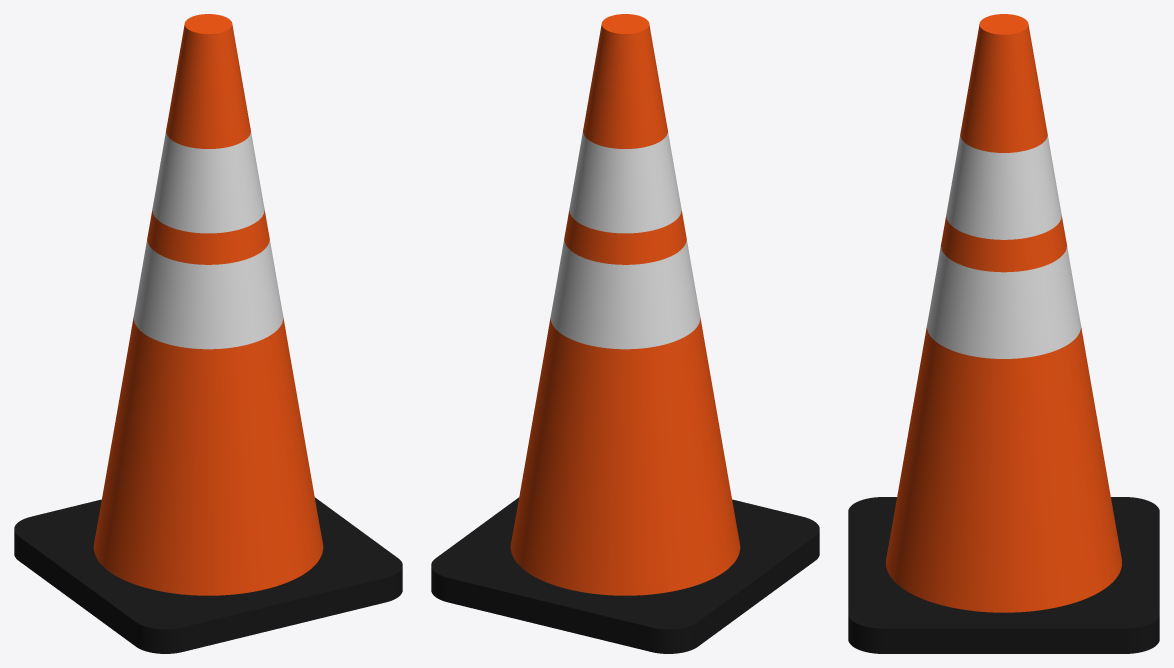
Rendered from traffic-cone-collars.glb.
The picture shows the model from 3 angles, left to right: view 1: azimuth 30°, elevation 25°; view 2: azimuth 150°, elevation 25°; view 3: azimuth 270°, elevation 25°; orthographic projection. The views are drawn at different scales.
Visible parts, largest first — view 1: cone_4_fd0e94, base_25abe2, cone_3_077b77; view 2: cone_4_fd0e94, base_25abe2, cone_3_077b77; view 3: cone_4_fd0e94, base_25abe2, cone_3_077b77.
Boxes of the visible parts, x1,y1,x2,y2 form: cone_4_fd0e94: (93, 14, 323, 595); base_25abe2: (14, 497, 402, 653); cone_3_077b77: (133, 132, 283, 349); cone_4_fd0e94: (510, 14, 740, 595); base_25abe2: (431, 497, 819, 653); cone_3_077b77: (550, 132, 700, 349); cone_4_fd0e94: (886, 14, 1121, 612); base_25abe2: (848, 497, 1159, 653); cone_3_077b77: (927, 135, 1080, 358).
Bounding box in the file's own units: 0.356 × 0.711 × 0.356.
